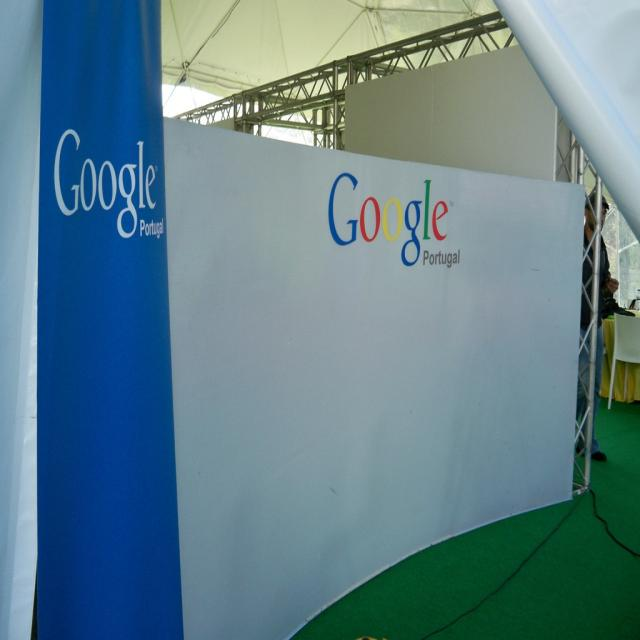google: (325, 170, 457, 271), (50, 128, 167, 241)
